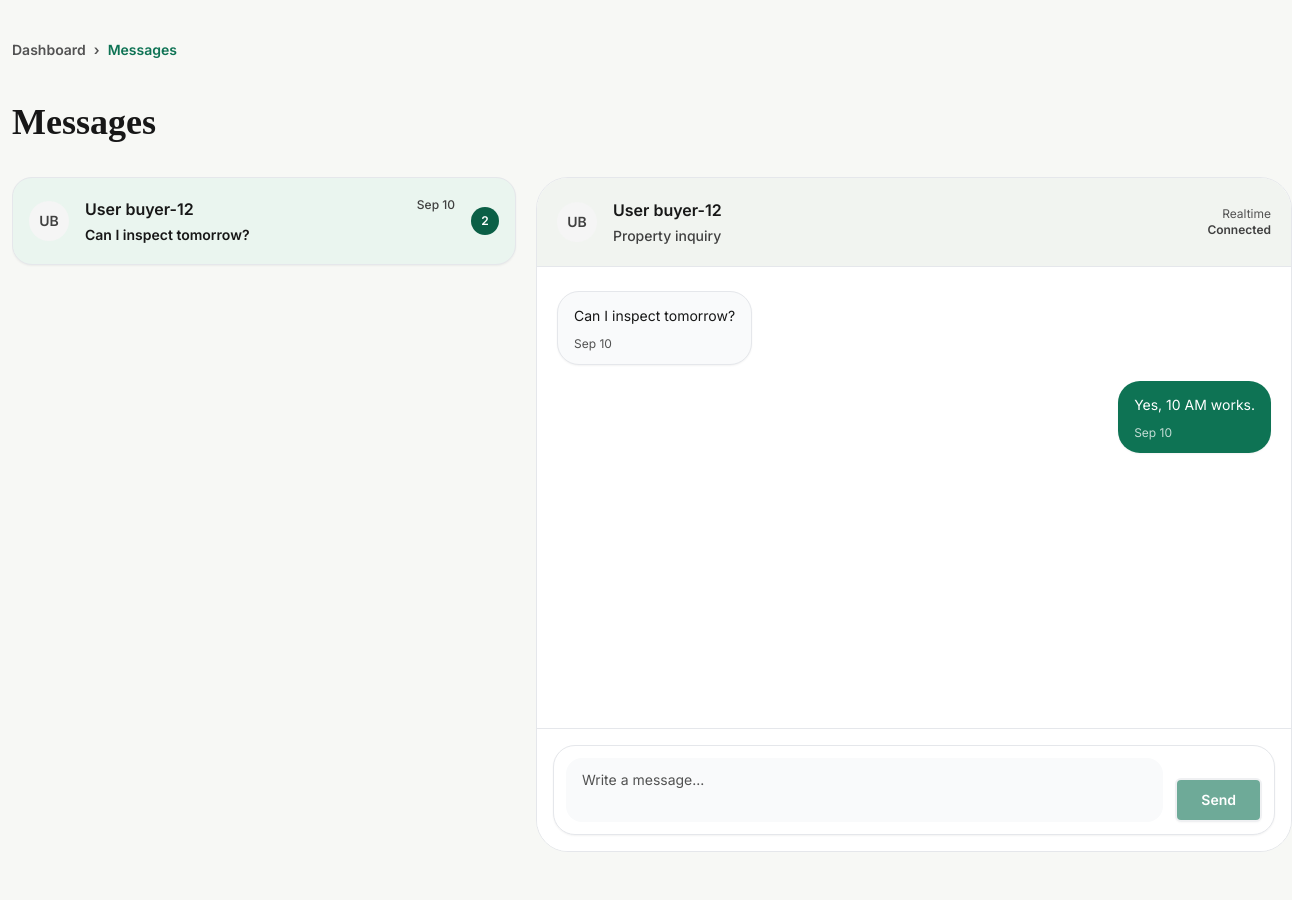
Reality messages › keeps the draft visible when send fails
Check: the 1st text "Can I inspect tomorrow?" is shown, box x1=85 y1=226 x2=250 y2=243
Type "Please confirm." into the text box labelled "Write a message" at (865,790), box x1=566 y1=758 x2=1163 y2=822
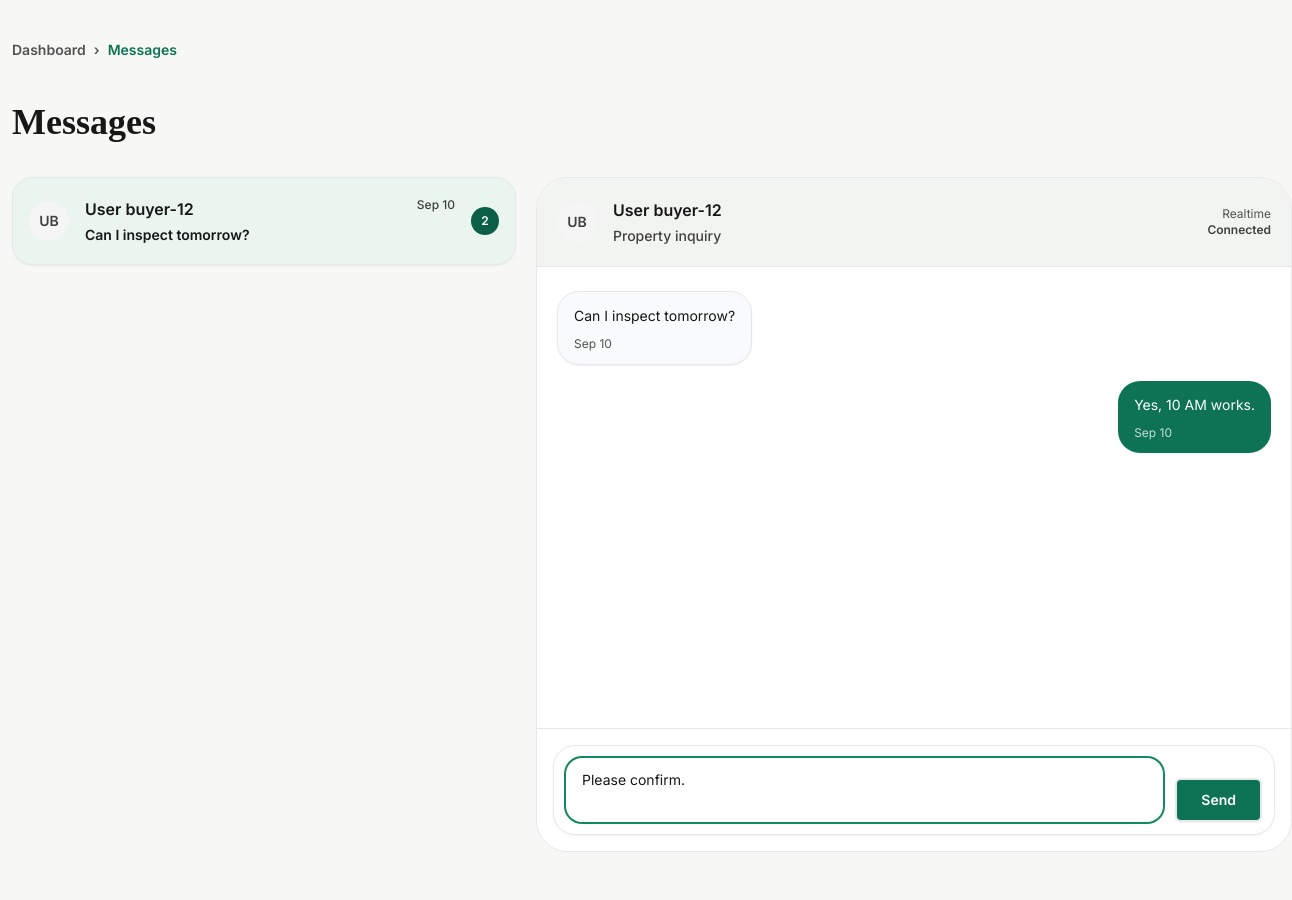
Click the button "Send" at (1219,800), box x1=1175 y1=778 x2=1262 y2=822
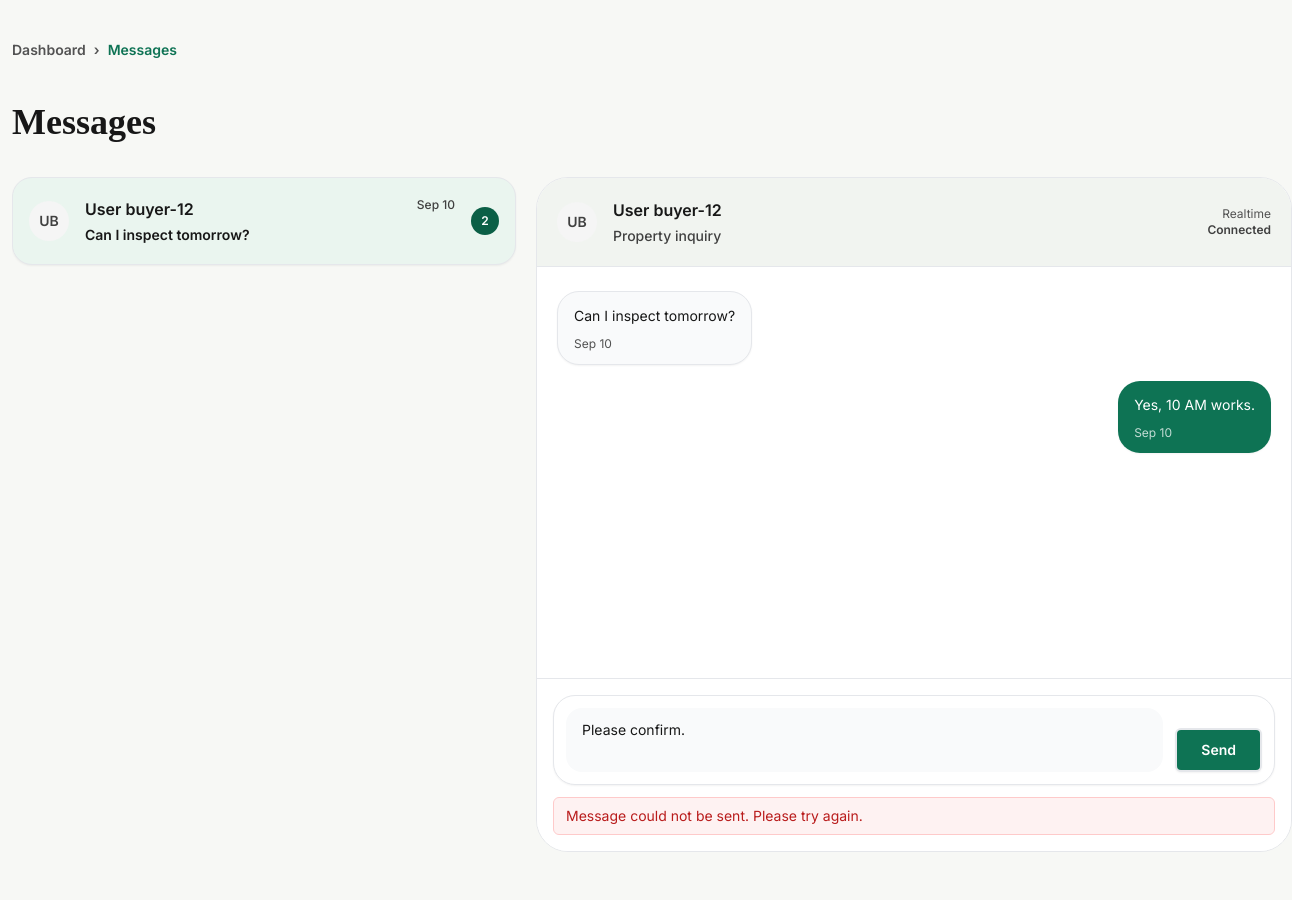
Check: the text "Message could not be sent. Please try again." is shown, box x1=553 y1=797 x2=1275 y2=835
